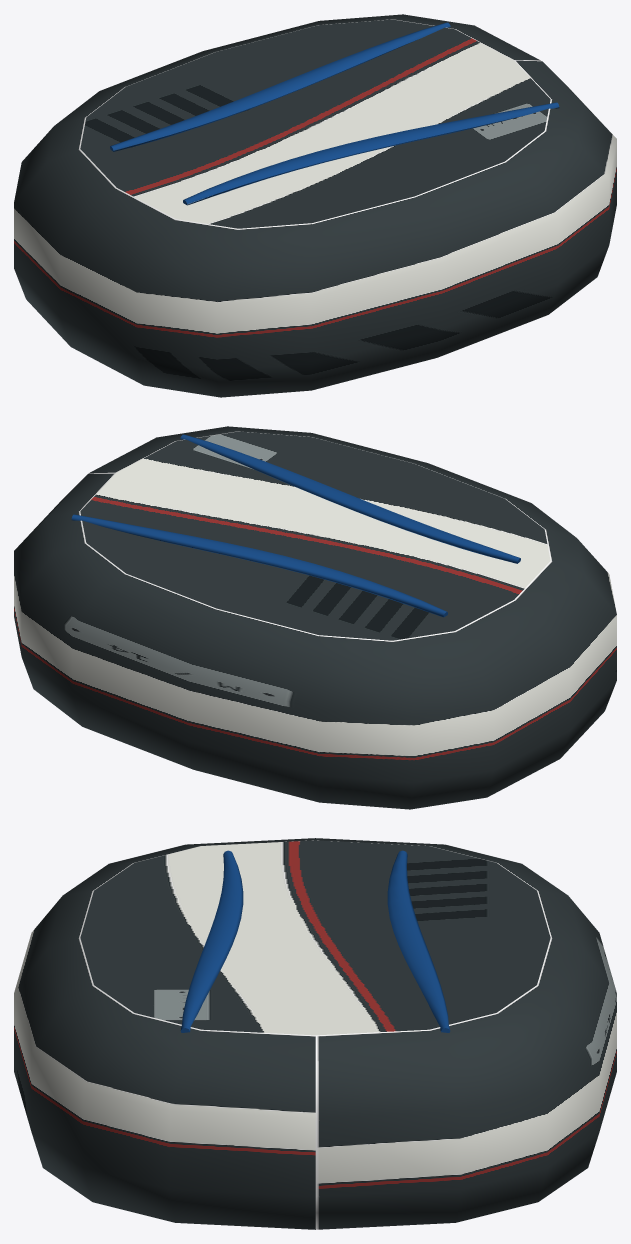
The model's file is MotorCowl_14_R_白波・瑠璃.glb.
3 views of the same model, one above another, from view 1: azimuth 30°, elevation 25°; view 2: azimuth 150°, elevation 25°; view 3: azimuth 270°, elevation 25° (orthographic). The views are drawn at different scales.
Parts seen in each view (by area): view 1: MotorCowl_14_R; view 2: MotorCowl_14_R; view 3: MotorCowl_14_R.
Boxes of the visible parts, left/top/right/bottom form: MotorCowl_14_R: left=14, top=14, right=616, bottom=397; MotorCowl_14_R: left=14, top=426, right=616, bottom=809; MotorCowl_14_R: left=14, top=838, right=616, bottom=1229.
Bounding box in the file's own units: 0.332 × 0.1193 × 0.286.
1 material, 1 textured.
